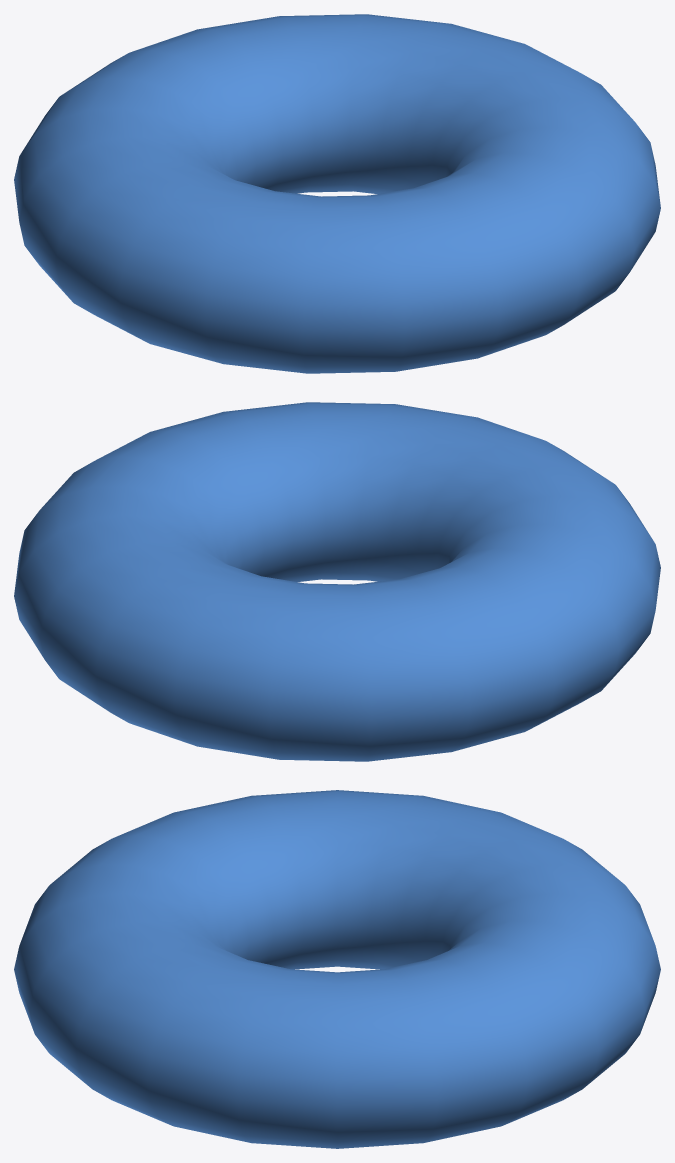
The model's file is toroide3.obj.
The picture shows the model from 3 angles, top to bottom: view 1: azimuth 30°, elevation 25°; view 2: azimuth 150°, elevation 25°; view 3: azimuth 270°, elevation 25°; orthographic projection.
Parts seen in each view (by area): view 1: pasted__pasted__pTorus1 pasted__group7 group8; view 2: pasted__pasted__pTorus1 pasted__group7 group8; view 3: pasted__pasted__pTorus1 pasted__group7 group8.
Boxes of the visible parts, x1,y1,x2,y2 form: pasted__pasted__pTorus1 pasted__group7 group8: [14, 14, 660, 373]; pasted__pasted__pTorus1 pasted__group7 group8: [14, 402, 660, 761]; pasted__pasted__pTorus1 pasted__group7 group8: [14, 790, 660, 1148].
Size of the model in its own units: 5.92 by 1.53 by 5.92.
Materials: 1 (1 with a texture image).
